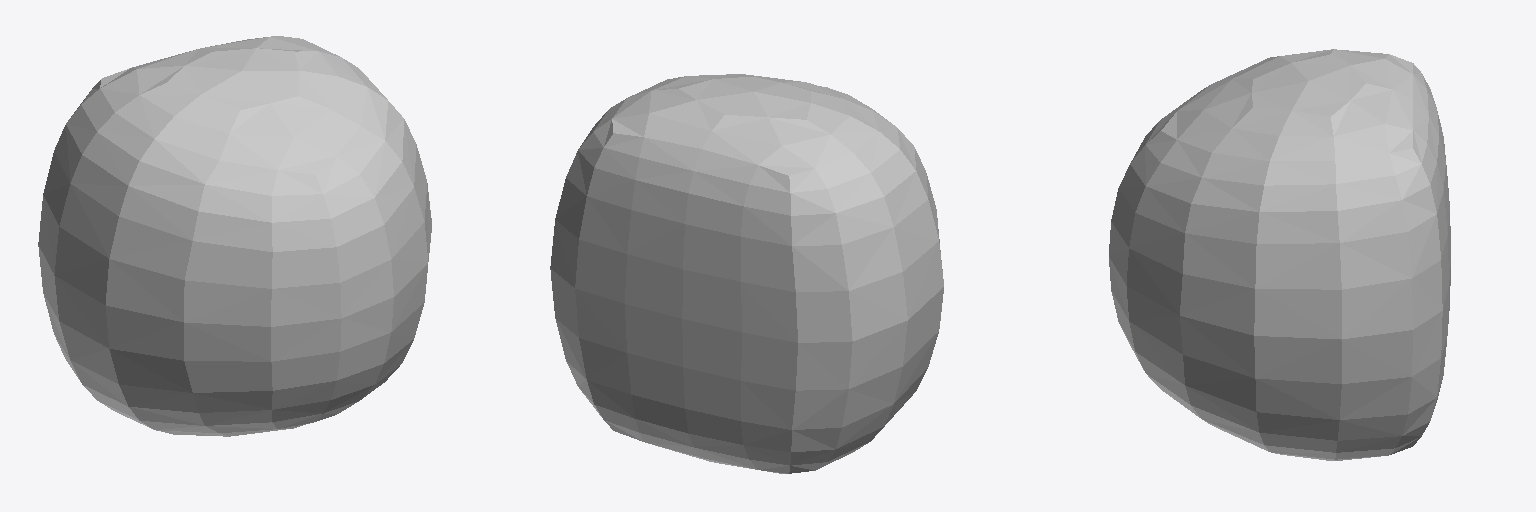
File: glow3a_sm.obj
The picture shows the model from 3 angles: view 1: azimuth 30°, elevation 25°; view 2: azimuth 150°, elevation 25°; view 3: azimuth 270°, elevation 25°; orthographic projection.
Parts seen in each view (by area): view 1: Part1; view 2: Part1; view 3: Part1.
Part boxes in pixels (left/top/right/bottom): Part1: left=38, top=36, right=431, bottom=436; Part1: left=550, top=74, right=943, bottom=473; Part1: left=1109, top=49, right=1450, bottom=460.
Bounding box in the file's own units: 157 × 153 × 136.